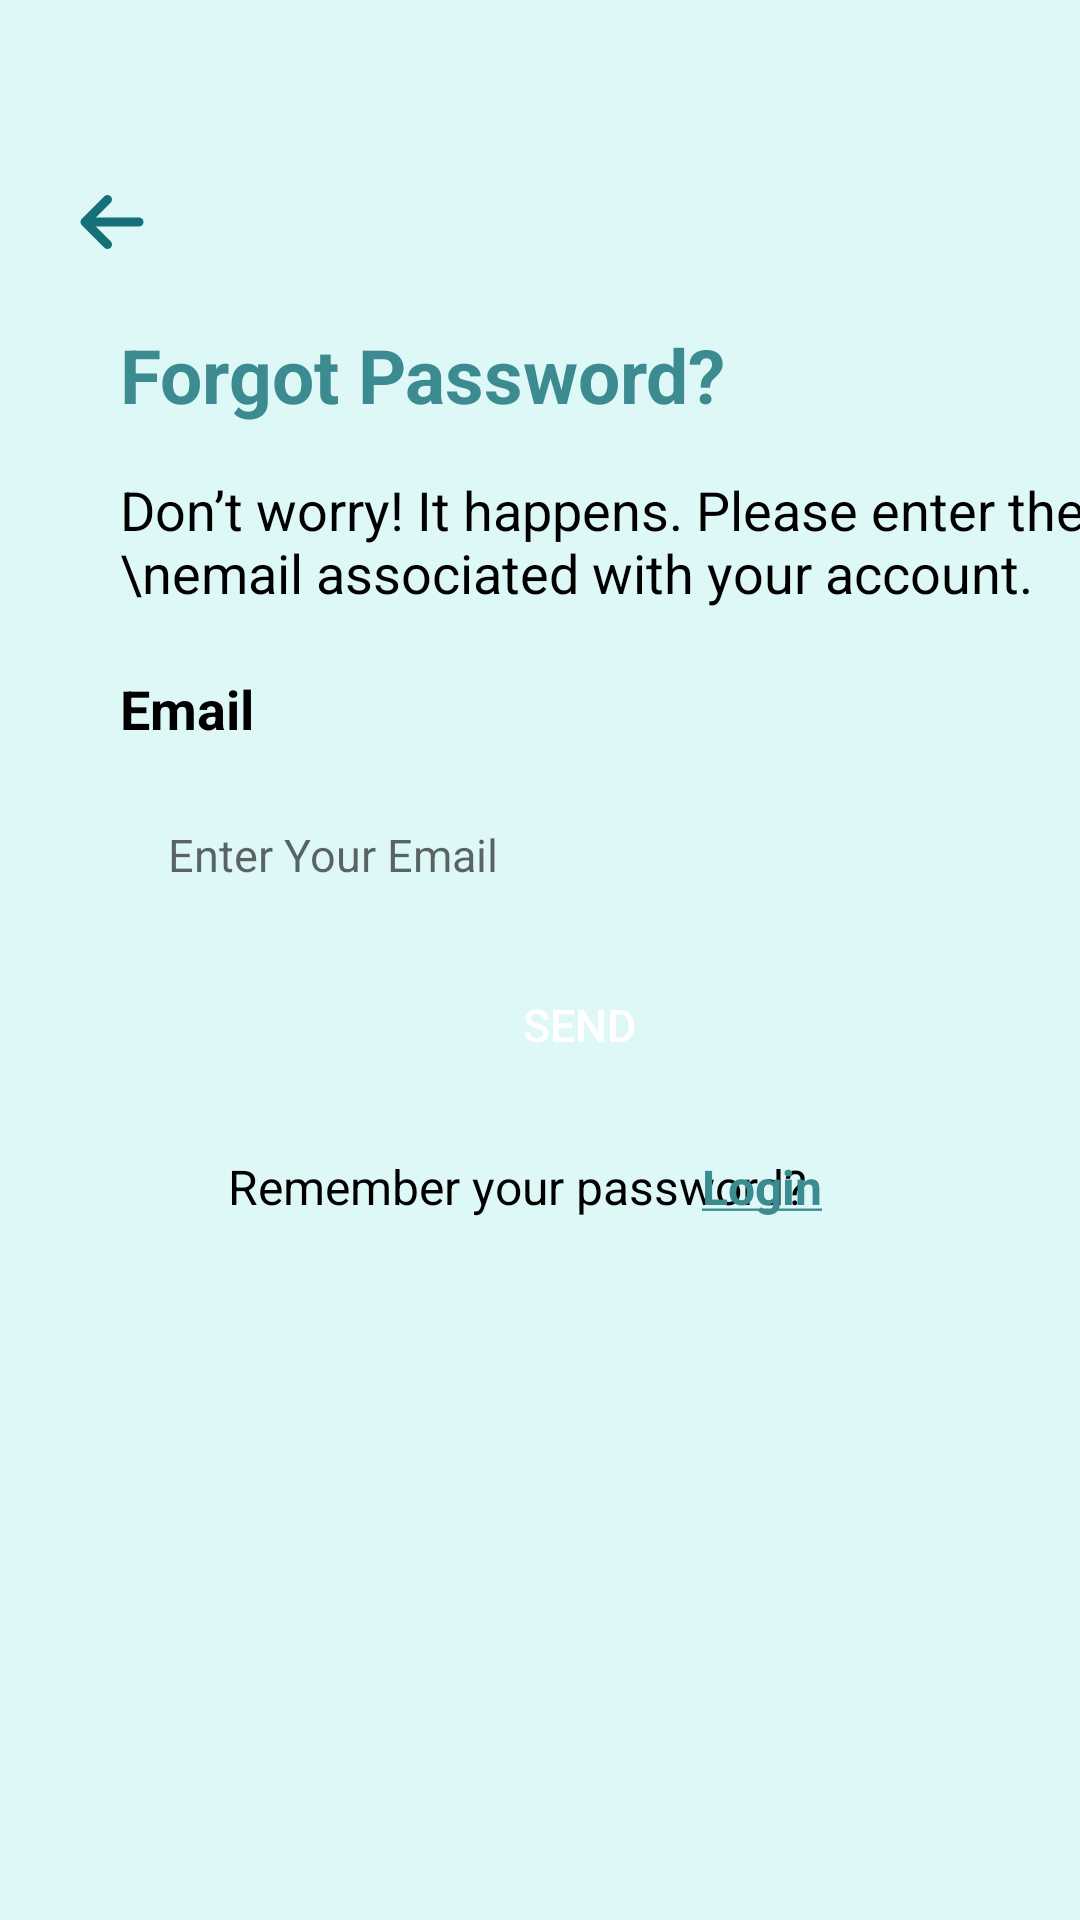

Icons on this 1080px×1920px Android screen, each with its box as (x1, y1, x2, y2):
leftarrow: (80, 195, 144, 249)
